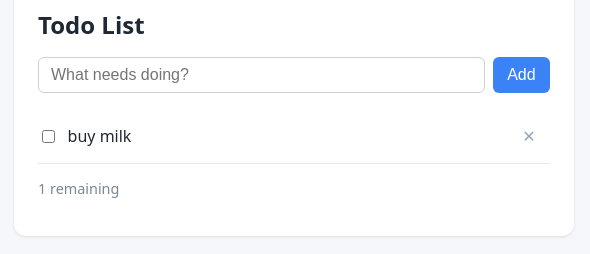
Test case: App › toggles a todo as done
This screenshot has width=590, height=254.
Step 1. Click the checkbox → click(48, 136), box [42, 130, 55, 143]
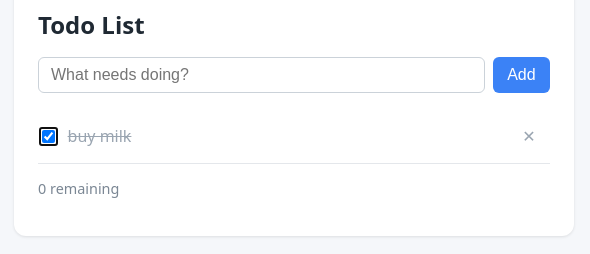
expect the checkbox is checked: met, box [42, 130, 55, 143]
expect the text "0 remaining" is shown: met, box [38, 179, 119, 198]
